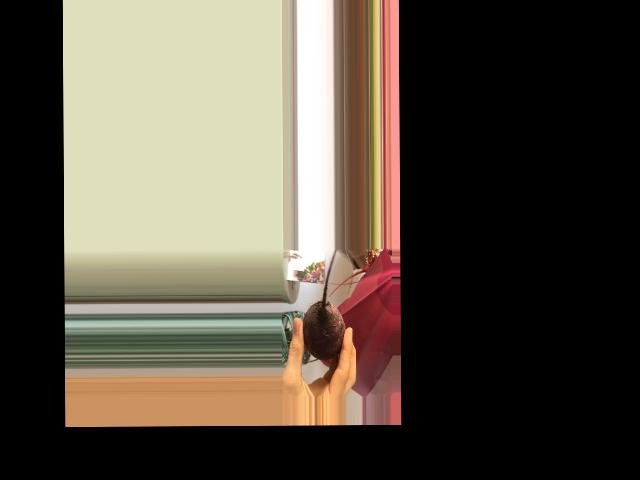beet: (302, 247, 345, 361)
